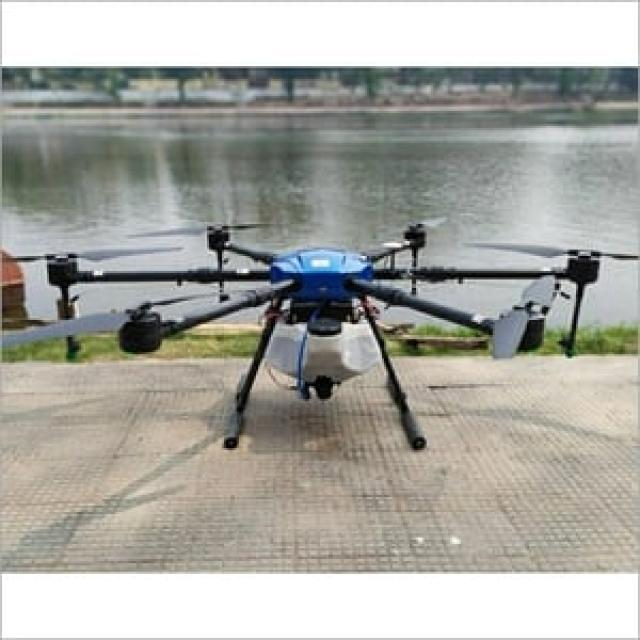drone: (0, 207, 640, 487)
